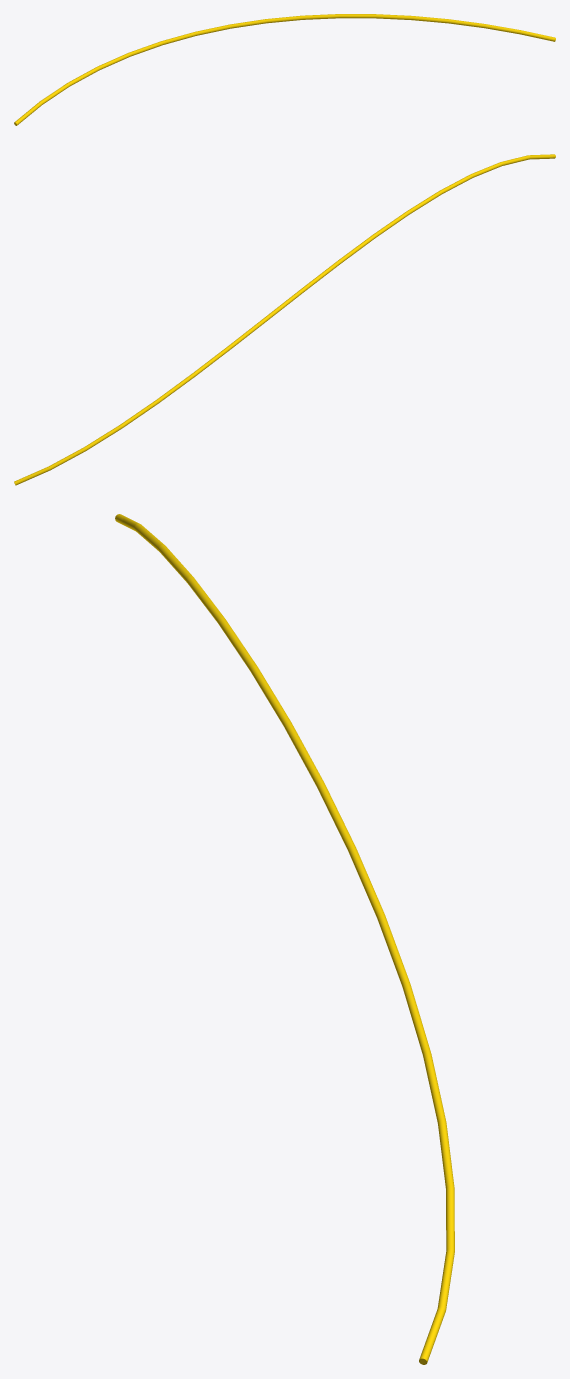
The model's file is Event_421556567_track_19.fbx.
3 renders of one model, top to bottom at view 1: azimuth 30°, elevation 25°; view 2: azimuth 210°, elevation 25°; view 3: azimuth 270°, elevation 25°, orthographic. The views are drawn at different scales.
Visible parts, largest first — view 1: Model; view 2: Model; view 3: Model.
Part boxes in pixels (left/top/right/bottom): Model: left=14, top=14, right=555, bottom=125; Model: left=14, top=154, right=555, bottom=485; Model: left=115, top=514, right=454, bottom=1364.
Size of the model in its own units: 6.55 by 1.45 by 1.56.
